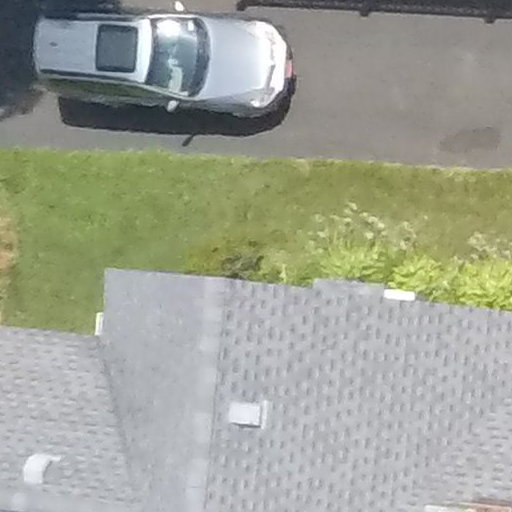car: (28, 1, 302, 132)
